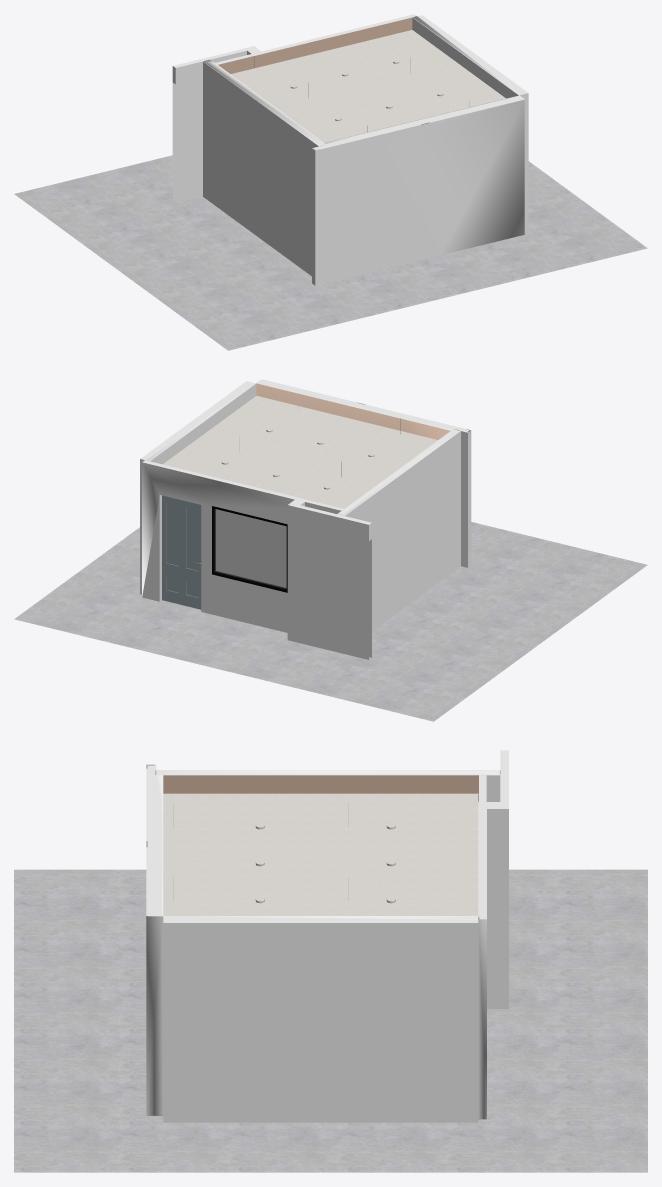
The model's file is breakout_room_a_01.glb.
The picture shows the model from 3 angles, top to bottom: view 1: azimuth 30°, elevation 25°; view 2: azimuth 150°, elevation 25°; view 3: azimuth 270°, elevation 25°; orthographic projection. The views are drawn at different scales.
Parts seen in each view (by area): view 1: walls, floor, ceiling; view 2: floor, walls, ceiling, window, available_moving_area, hub_entrence.001; view 3: floor, walls, ceiling.
Boxes of the visible parts, x1=… form: walls: x1=172, y1=14, x2=528, y2=285; floor: x1=14, y1=155, x2=647, y2=350; ceiling: x1=231, y1=30, x2=505, y2=142; floor: x1=14, y1=522, x2=647, y2=721; walls: x1=140, y1=379, x2=471, y2=659; ceiling: x1=163, y1=396, x2=437, y2=508; window: x1=212, y1=506, x2=287, y2=592; available_moving_area: x1=216, y1=509, x2=286, y2=587; hub_entrence.001: x1=162, y1=495, x2=201, y2=609; floor: x1=14, y1=869, x2=647, y2=1172; walls: x1=146, y1=750, x2=508, y2=1122; ceiling: x1=163, y1=793, x2=478, y2=915.
Size of the model in its own units: 394 by 128 by 348.
53 materials, 26 textured.
